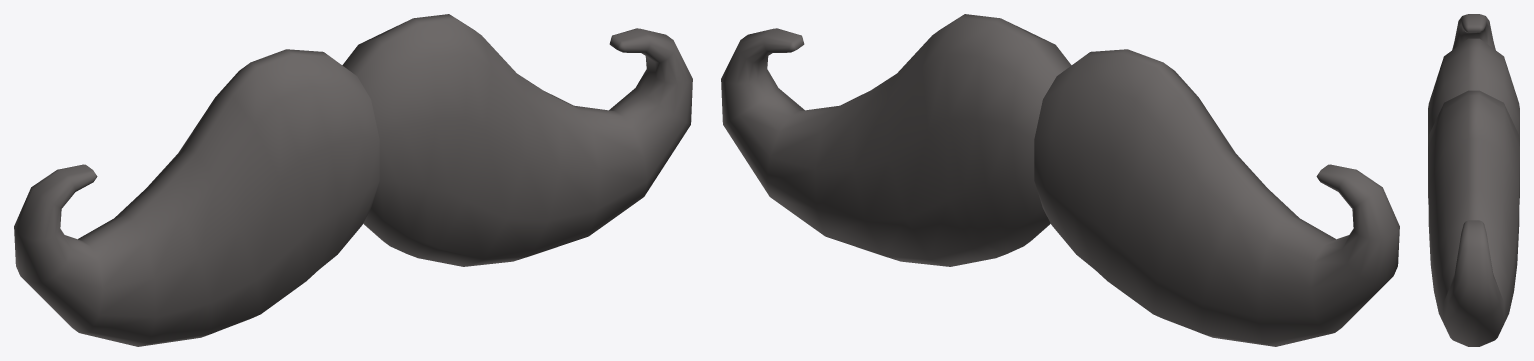
Rendered from Beard_10_04.fbx.
The picture shows the model from 3 angles, left to right: view 1: azimuth 30°, elevation 25°; view 2: azimuth 150°, elevation 25°; view 3: azimuth 270°, elevation 25°; orthographic projection. The views are drawn at different scales.
Visible parts, largest first — view 1: Beard_10_04; view 2: Beard_10_04; view 3: Beard_10_04.
Part boxes in pixels (bbox=[...]): Beard_10_04: bbox=[14, 14, 692, 346]; Beard_10_04: bbox=[721, 14, 1399, 346]; Beard_10_04: bbox=[1428, 14, 1519, 346].
Size of the model in its own units: 18.39 by 6.86 by 2.89.
